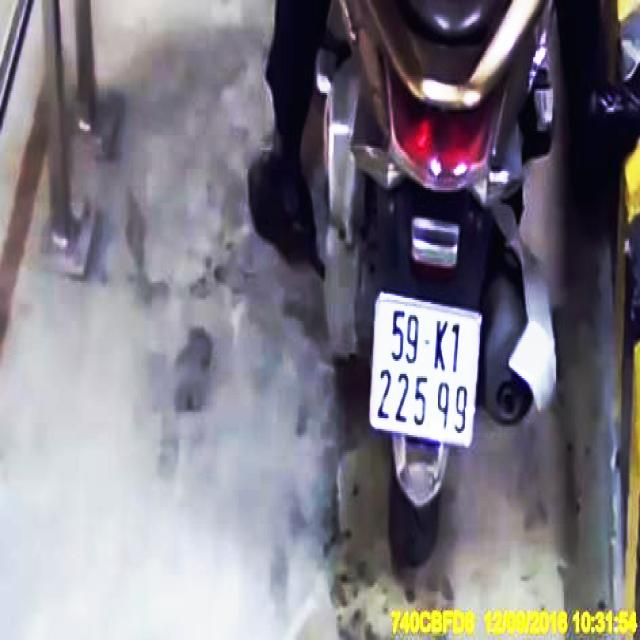license_plate: (369, 296, 482, 448)
